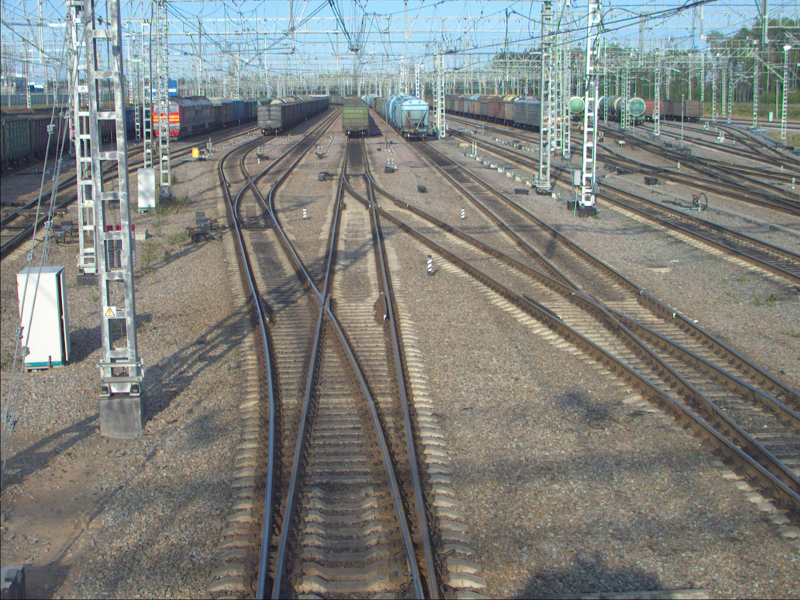left: (228, 194, 279, 223)
